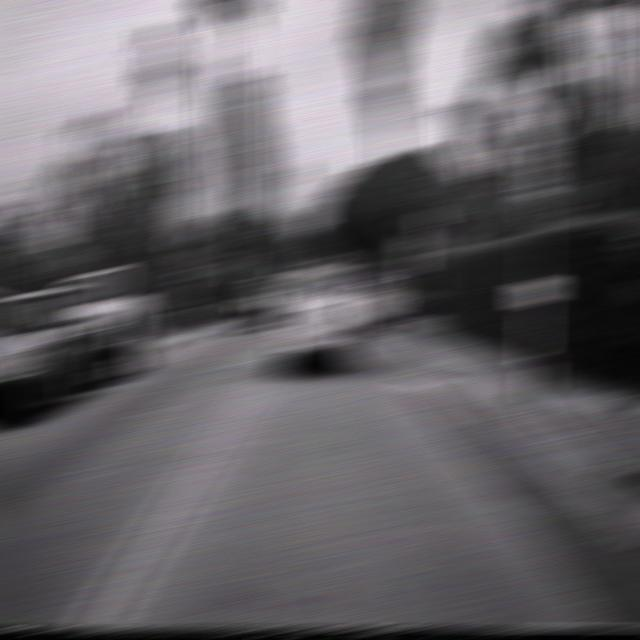speedLimit30: (516, 140, 556, 197)
